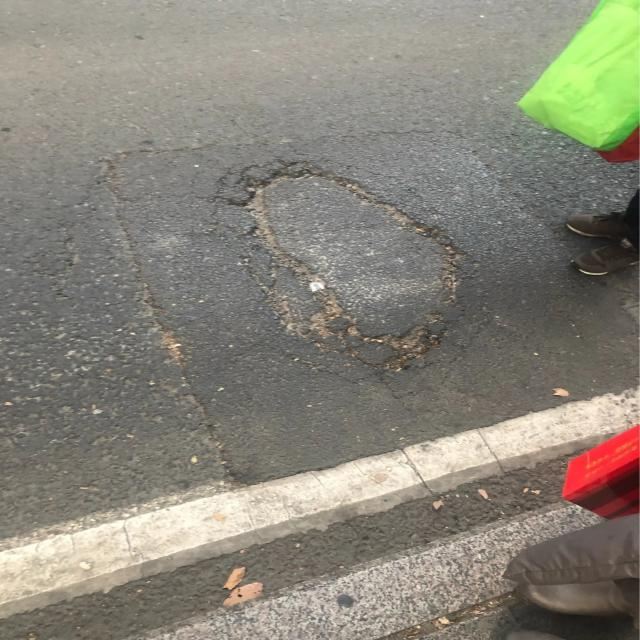Pothole: (233, 168, 456, 356)
